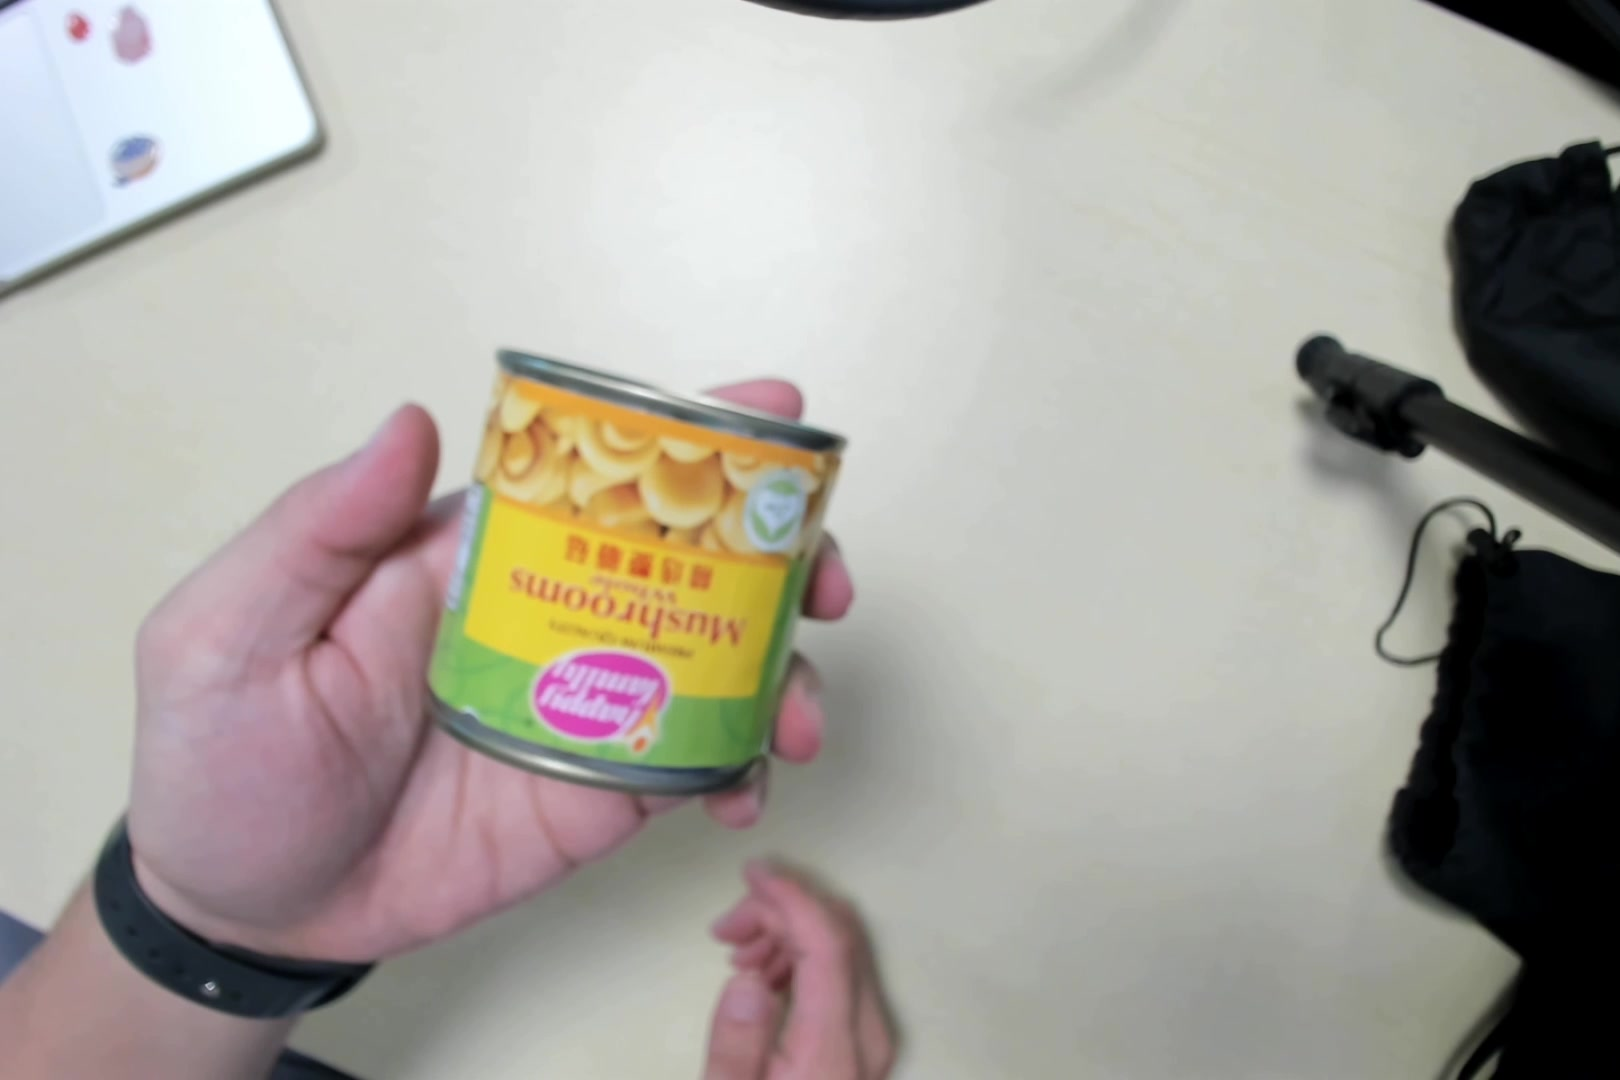CannedMashrooms_100-199g_Halal_NonHealthy: (442, 345, 828, 786)
